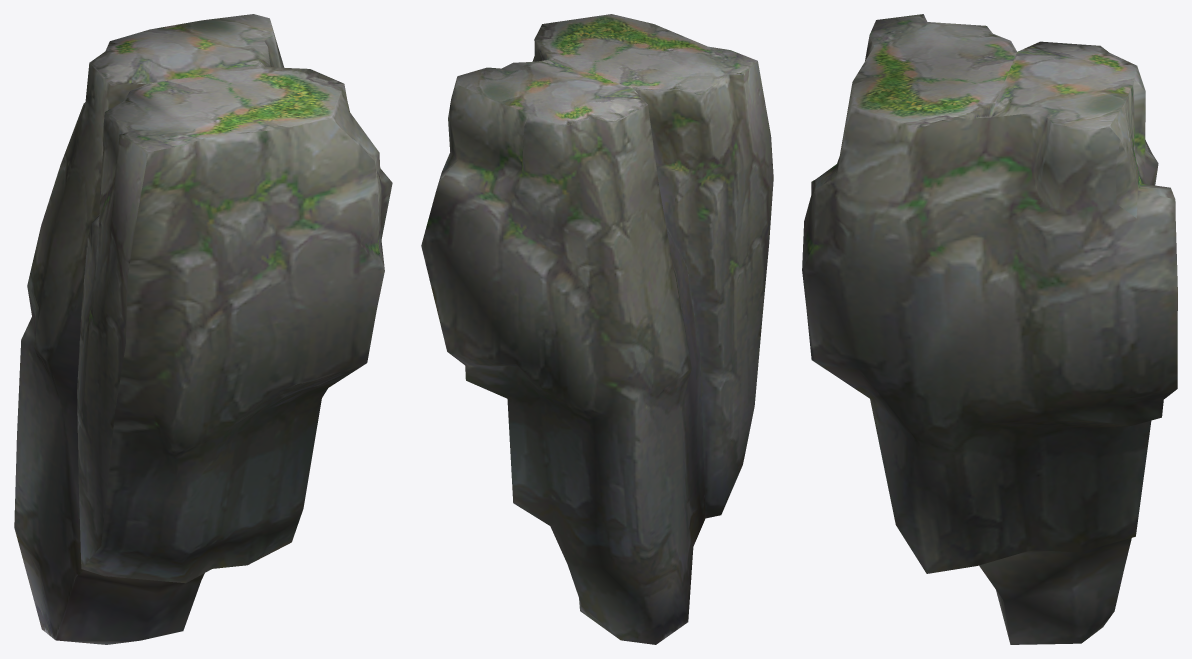
Rendered from wlf_shanshi05_w.FBX.
3 views of the same model, side by side, from view 1: azimuth 30°, elevation 25°; view 2: azimuth 150°, elevation 25°; view 3: azimuth 270°, elevation 25° (orthographic). The views are drawn at different scales.
Parts seen in each view (by area): view 1: wlf_shanshi05_w; view 2: wlf_shanshi05_w; view 3: wlf_shanshi05_w.
Part boxes in pixels (x1,y1,x2,y2): wlf_shanshi05_w: (14,14,392,644); wlf_shanshi05_w: (421,14,773,644); wlf_shanshi05_w: (802,14,1177,644).
Bounding box in the file's own units: 144 × 307 × 174.
